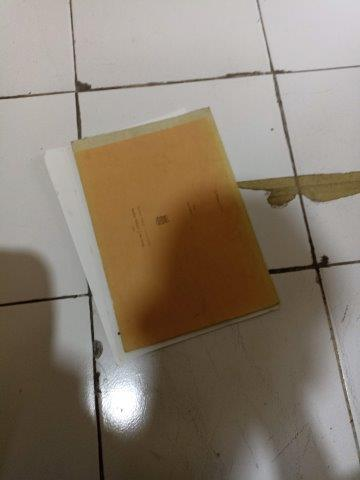kertas: (46, 106, 280, 365)
